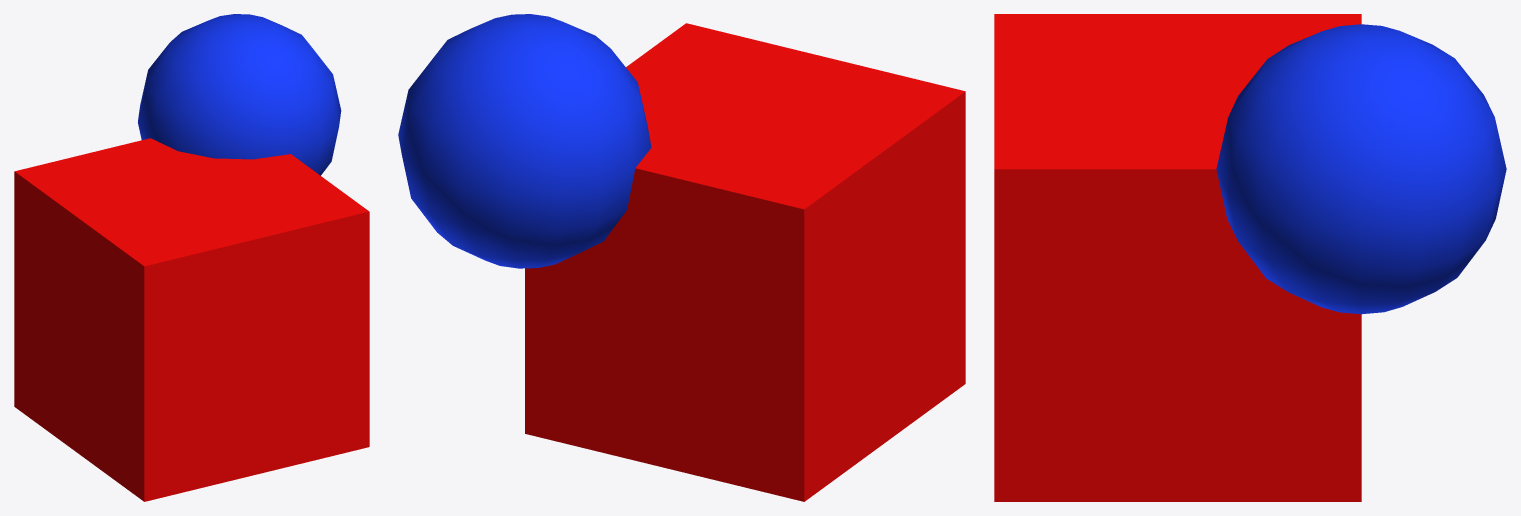
3 renders of one model, left to right at view 1: azimuth 30°, elevation 25°; view 2: azimuth 150°, elevation 25°; view 3: azimuth 270°, elevation 25°, orthographic. The views are drawn at different scales.
Visible parts, largest first — view 1: Object_2, Object_1; view 2: Object_2, Object_1; view 3: Object_2, Object_1.
Boxes of the visible parts, x1=… form: Object_2: x1=14, y1=138, x2=369, y2=501; Object_1: x1=138, y1=14, x2=341, y2=175; Object_2: x1=525, y1=23, x2=965, y2=501; Object_1: x1=398, y1=14, x2=651, y2=268; Object_2: x1=994, y1=14, x2=1361, y2=501; Object_1: x1=1216, y1=24, x2=1506, y2=314.
Bounding box in the file's own units: 1.4 × 1.4 × 1.4.
